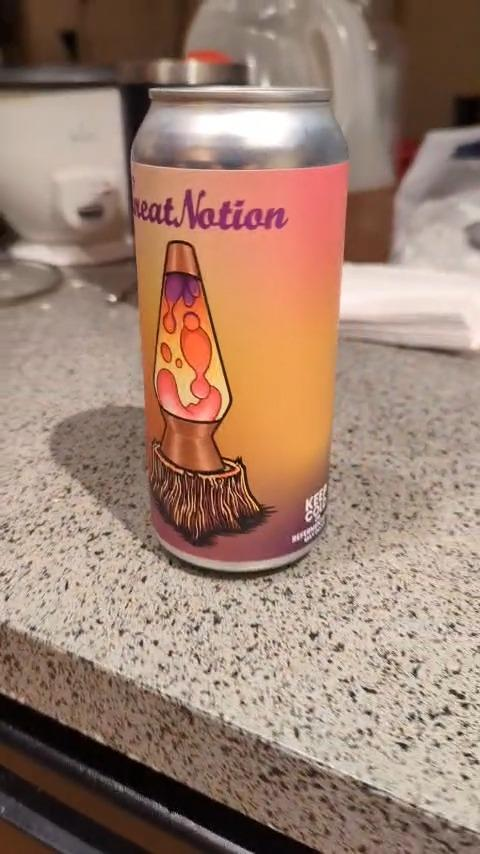metal: (132, 87, 347, 572)
